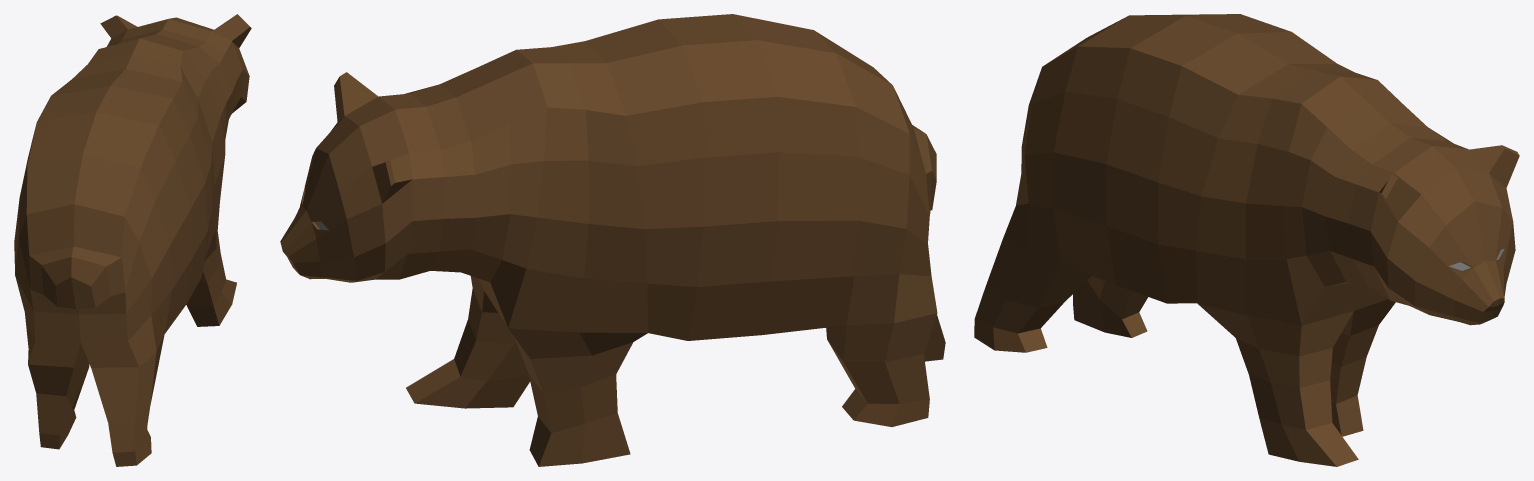
File: Bear.fbx
3 views of the same model, side by side, from view 1: azimuth 30°, elevation 25°; view 2: azimuth 150°, elevation 25°; view 3: azimuth 270°, elevation 25° (orthographic). The views are drawn at different scales.
Visible parts, largest first — view 1: M_Bear; view 2: M_Bear; view 3: M_Bear.
Boxes of the visible parts, x1,y1,x2,y2 form: M_Bear: (14,14,251,466); M_Bear: (280,14,945,466); M_Bear: (974,14,1519,466).
Size of the model in its own units: 84.92 by 69.39 by 94.61.
1 material, 1 textured.
